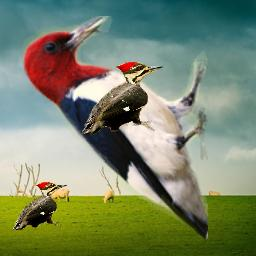Woodpecker: (20, 16, 208, 239), (82, 62, 165, 135), (13, 182, 68, 230)
